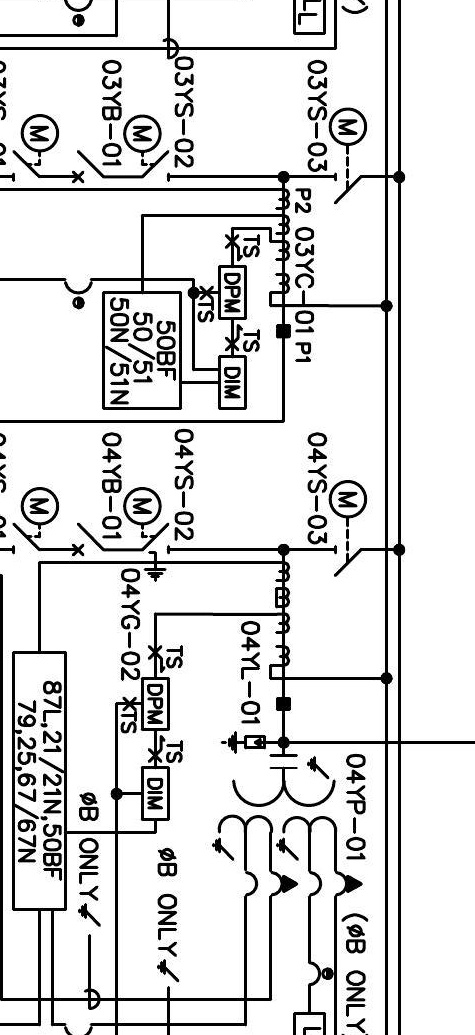115_1way_ds_w_motor: (328, 106, 369, 205), (328, 479, 368, 578), (122, 113, 171, 182), (12, 113, 60, 182), (12, 486, 60, 555)
115_3ways_ds_w_motor: (122, 486, 171, 583)
115_breaker: (72, 149, 105, 184), (72, 522, 105, 557)
115_cvt_1p: (211, 753, 363, 899)
115_la: (220, 730, 266, 755)
DIM: (218, 355, 248, 411), (140, 766, 170, 821)
DPM: (218, 264, 248, 321), (141, 677, 170, 731)
